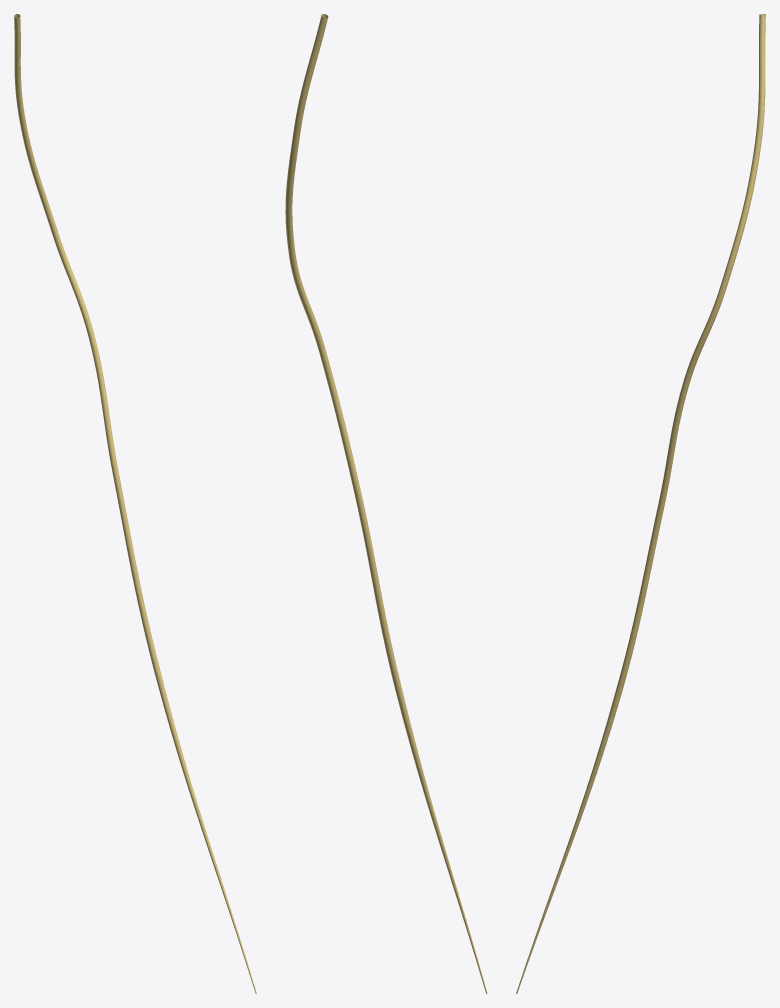
The picture shows the model from 3 angles, left to right: view 1: azimuth 90°, elevation 25°; view 2: azimuth 150°, elevation 25°; view 3: azimuth 270°, elevation 25°; orthographic projection. The views are drawn at different scales.
Parts seen in each view (by area): view 1: ZA_2c70041bf0a108bf; view 2: ZA_2c70041bf0a108bf; view 3: ZA_2c70041bf0a108bf.
Part boxes in pixels (box(x1,y1,x2,y2)): ZA_2c70041bf0a108bf: box(14, 14, 256, 993); ZA_2c70041bf0a108bf: box(285, 14, 487, 993); ZA_2c70041bf0a108bf: box(516, 14, 765, 993).
Size of the model in its own units: 0.0143 by 0.1673 by 0.0381.
